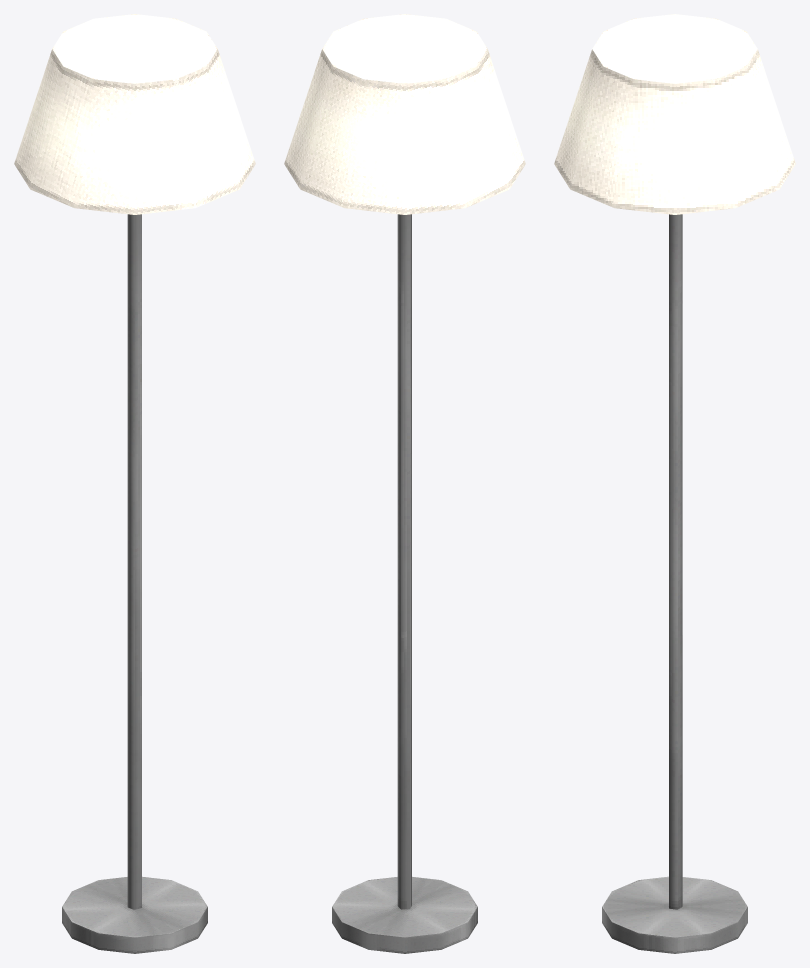
File: StandingLamp.glb
3 views of the same model, side by side, from view 1: azimuth 30°, elevation 25°; view 2: azimuth 150°, elevation 25°; view 3: azimuth 270°, elevation 25° (orthographic).
Visible parts, largest first — view 1: standing lamp; view 2: standing lamp; view 3: standing lamp.
Part boxes in pixels (x1,y1,x2,y2): standing lamp: (14,14,255,953); standing lamp: (284,14,525,953); standing lamp: (554,14,795,953).
Size of the model in its own units: 0.4042 by 1.61 by 0.4042.
Materials: 2 (2 with a texture image).
